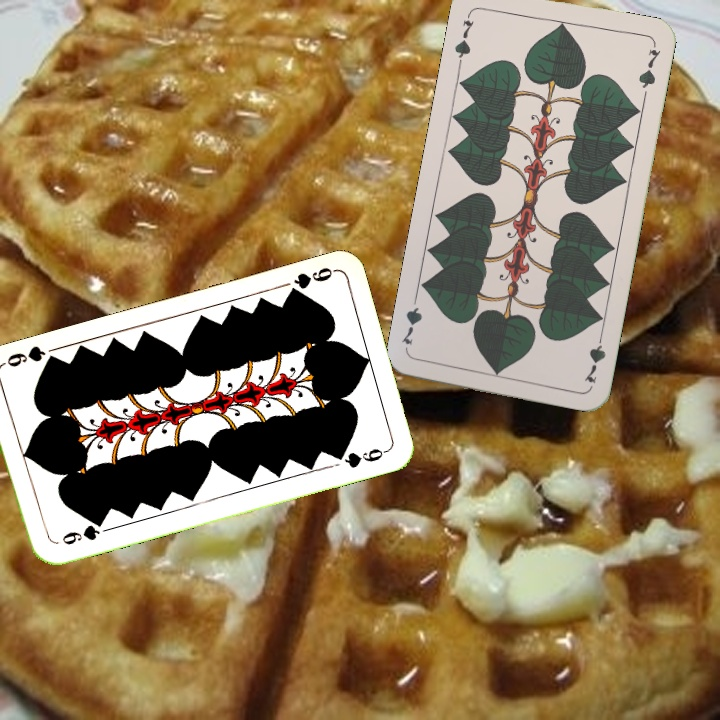G7: (580, 327, 608, 386), (450, 8, 477, 67)
G9: (283, 263, 338, 299), (58, 517, 107, 548)
